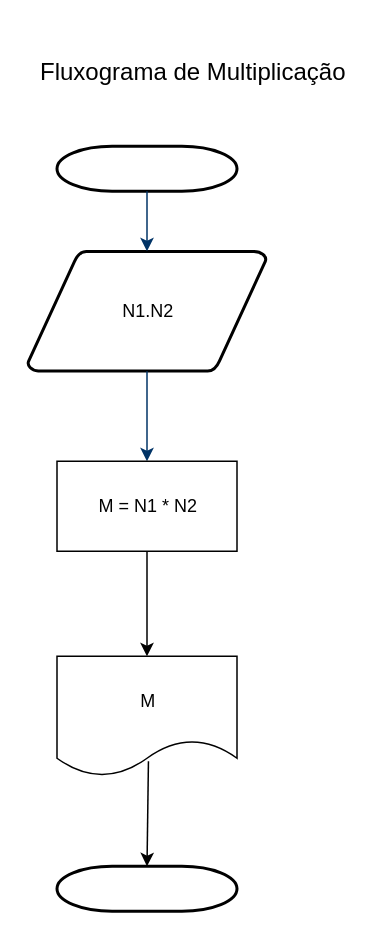
Image size: 383x938. Some labels were removed from this diagram. The centre of each missing label's shape, as x and y in pixels:
"Fim" goes at pixel 146 888.
"Inicio" goes at pixel 146 168.
